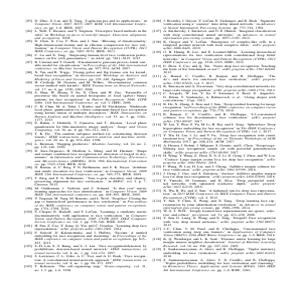text: (19, 17, 150, 272), (152, 16, 279, 274)
